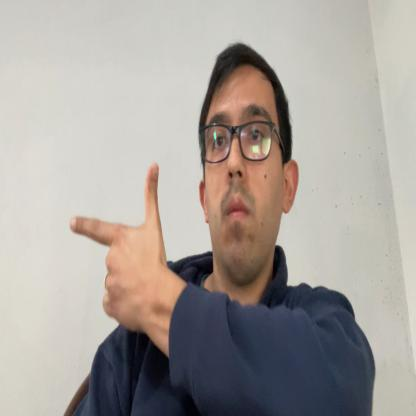G: (71, 161, 165, 336)
